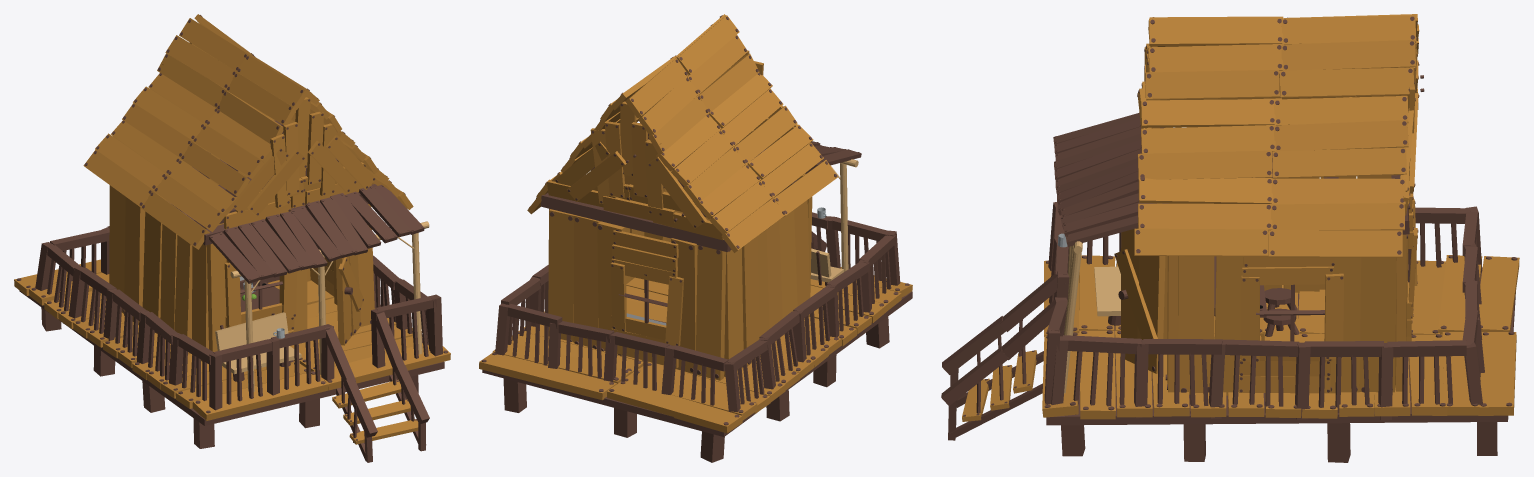
3 renders of one model, left to right at view 1: azimuth 30°, elevation 25°; view 2: azimuth 150°, elevation 25°; view 3: azimuth 270°, elevation 25°, orthographic. The views are drawn at different scales.
Visible parts, largest first — view 1: node_MeshObject1689219072-PolyPaper20, node_MeshObject1117139968-PolyPaper20, node_MeshObject-44514304-PolyPaper20, node_MeshObject-1760751616-PolyPaper21, node_MeshObject-27018240-PolyPaper20, node_MeshObject545060864-PolyPaper20, node_MeshObject-1461590016-PolyPaper20, node_MeshObject-2033669120-PolyPaper20; view 2: node_MeshObject1117139968-PolyPaper20, node_MeshObject-27018240-PolyPaper20, node_MeshObject-1760751616-PolyPaper21, node_MeshObject-44514304-PolyPaper20, node_MeshObject545060864-PolyPaper20, node_MeshObject1689219072-PolyPaper20, node_MeshObject-1461590016-PolyPaper20, node_MeshObject-2033669120-PolyPaper20; view 3: node_MeshObject-44514304-PolyPaper20, node_MeshObject-1760751616-PolyPaper21, node_MeshObject1117139968-PolyPaper20, node_MeshObject1689219072-PolyPaper20, node_MeshObject-27018240-PolyPaper20, node_MeshObject-1461590016-PolyPaper20, node_MeshObject545060864-PolyPaper20, node_MeshObject-2033669120-PolyPaper20.
Boxes of the visible parts, x1,y1,x2,y2 form: node_MeshObject1689219072-PolyPaper20: (84, 103, 430, 391); node_MeshObject1117139968-PolyPaper20: (35, 211, 442, 448); node_MeshObject-44514304-PolyPaper20: (123, 14, 413, 209); node_MeshObject-1760751616-PolyPaper21: (14, 259, 450, 425); node_MeshObject-27018240-PolyPaper20: (41, 120, 407, 376); node_MeshObject545060864-PolyPaper20: (109, 165, 334, 333); node_MeshObject-1461590016-PolyPaper20: (184, 42, 429, 462); node_MeshObject-2033669120-PolyPaper20: (161, 52, 387, 229); node_MeshObject1117139968-PolyPaper20: (495, 170, 900, 412); node_MeshObject-27018240-PolyPaper20: (481, 123, 829, 462); node_MeshObject-1760751616-PolyPaper21: (479, 267, 912, 436); node_MeshObject-44514304-PolyPaper20: (527, 14, 797, 214); node_MeshObject545060864-PolyPaper20: (611, 155, 782, 380); node_MeshObject1689219072-PolyPaper20: (540, 73, 861, 313); node_MeshObject-1461590016-PolyPaper20: (547, 101, 843, 323); node_MeshObject-2033669120-PolyPaper20: (529, 61, 797, 228); node_MeshObject-44514304-PolyPaper20: (1134, 14, 1419, 257); node_MeshObject-1760751616-PolyPaper21: (1042, 255, 1519, 425); node_MeshObject1117139968-PolyPaper20: (1021, 196, 1484, 462); node_MeshObject1689219072-PolyPaper20: (1051, 86, 1417, 419); node_MeshObject-27018240-PolyPaper20: (1057, 93, 1514, 455); node_MeshObject-1461590016-PolyPaper20: (941, 67, 1419, 456); node_MeshObject545060864-PolyPaper20: (1239, 175, 1413, 393); node_MeshObject-2033669120-PolyPaper20: (1137, 37, 1424, 254).
Bounding box in the file's own units: 2 × 2.39 × 3.14.
